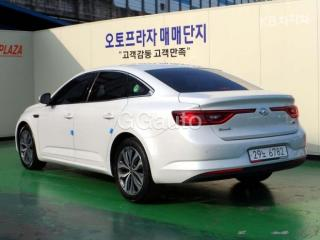2: (280, 147, 286, 156), (253, 150, 257, 159)
6: (268, 149, 273, 157)
7: (272, 147, 277, 156)
8: (276, 148, 281, 156)
9: (257, 150, 262, 158)
plate: (246, 143, 292, 167)
노: (261, 150, 267, 158)
